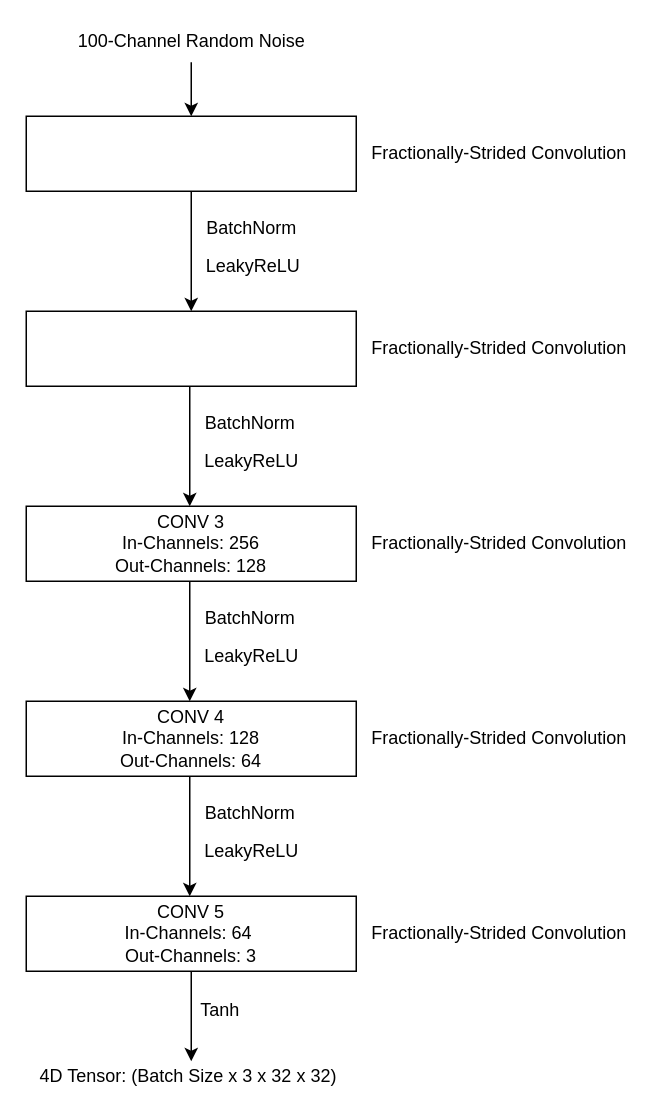
Some shapes in this 668 by 1116 pixel diagram are drawn without their labels. Here are the shapes that lost their labels. From the top down, the centre of each, then its label:
point 190,153: CONV 1 In-Channels: 100 Out-Channels: 512
point 190,348: CONV 2 In-Channels: 512 Out-Channels: 256
